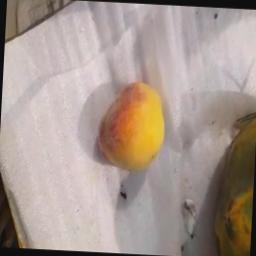Peach Ripe: (86, 70, 180, 174)
